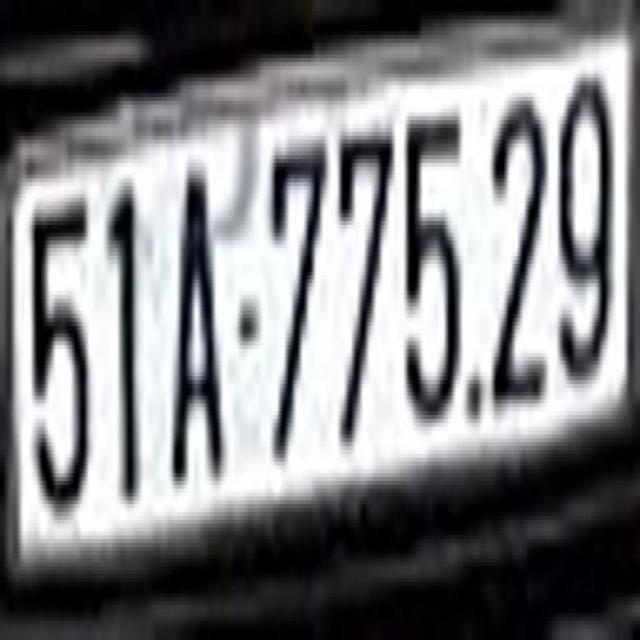1: (102, 166, 144, 508)
2: (492, 85, 546, 411)
5: (403, 101, 463, 407), (31, 202, 87, 496)
7: (265, 148, 324, 438), (340, 109, 390, 438)
9: (564, 73, 616, 396)
A: (169, 163, 222, 497)
